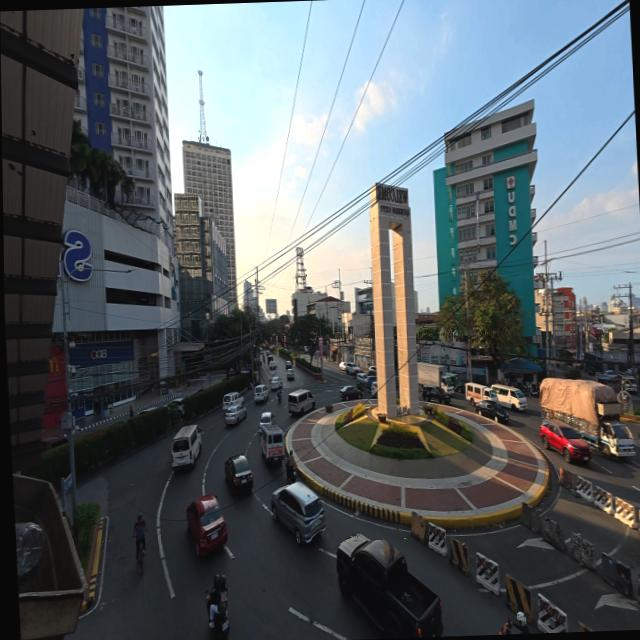car: (271, 483, 324, 544), (186, 494, 226, 555), (539, 421, 590, 464), (224, 453, 253, 492), (476, 401, 507, 422), (421, 386, 449, 404), (224, 404, 246, 424), (42, 436, 67, 451), (339, 386, 361, 401), (258, 412, 273, 433), (168, 398, 184, 415), (355, 372, 368, 388), (136, 406, 157, 415), (349, 366, 364, 378), (365, 376, 377, 391), (344, 362, 357, 374), (271, 376, 282, 389), (603, 371, 617, 381), (285, 368, 294, 380), (366, 366, 376, 375), (371, 382, 377, 397), (284, 359, 292, 370), (267, 352, 274, 362), (338, 361, 344, 371), (303, 346, 308, 353)
motorcycle: (211, 603, 228, 639), (498, 618, 511, 634), (286, 466, 295, 484), (527, 383, 538, 396), (276, 392, 281, 403)
trucks: (336, 535, 441, 638), (539, 379, 634, 457), (416, 362, 458, 393)
vans: (171, 425, 201, 470), (258, 420, 283, 462), (491, 384, 526, 410), (465, 382, 496, 405), (287, 390, 314, 414), (221, 393, 242, 413), (253, 385, 268, 402), (621, 377, 636, 393), (268, 361, 275, 372)
